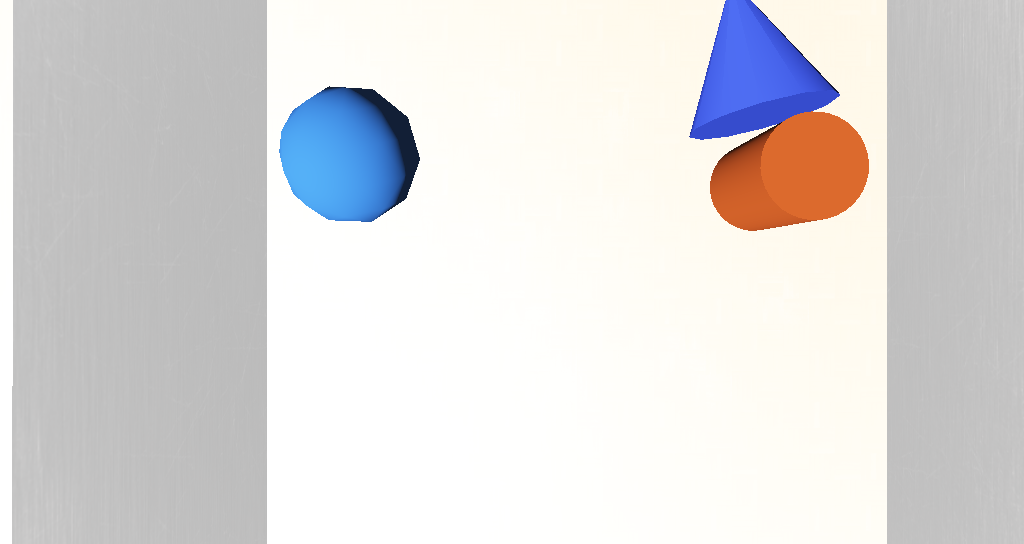cone: (573, 222, 627, 255)
cylinder: (536, 165, 637, 227)
sphere: (364, 205, 431, 253)
